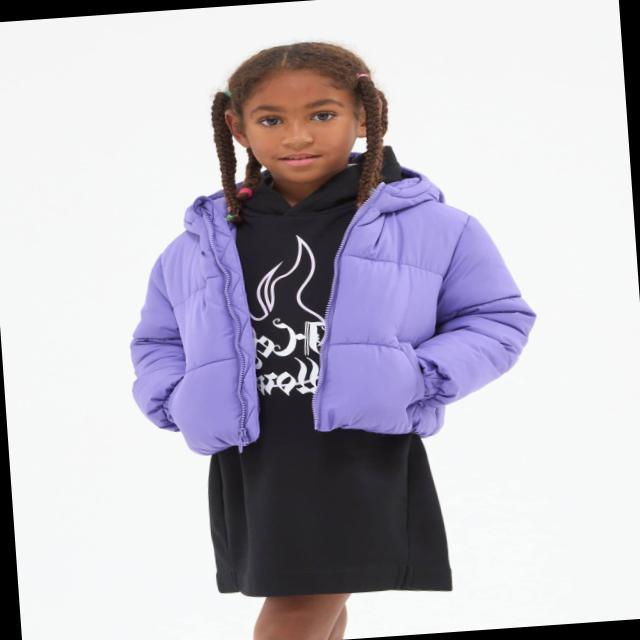Jacket: (60, 142, 568, 488)
